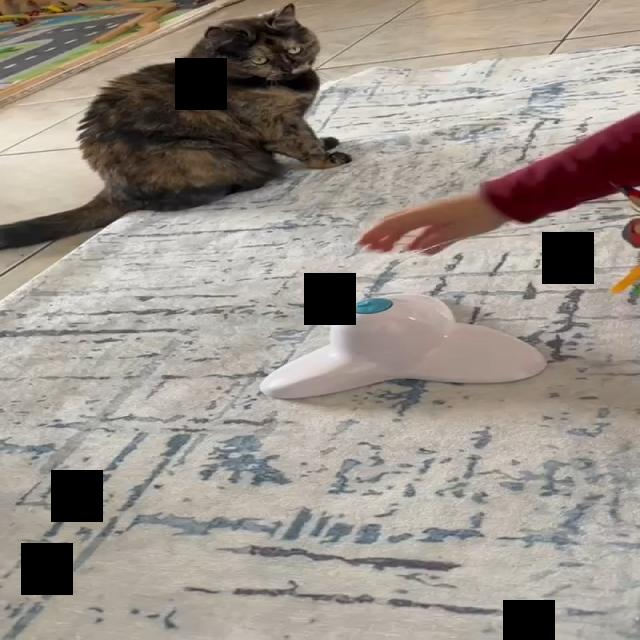authorized: (0, 2, 352, 250)
